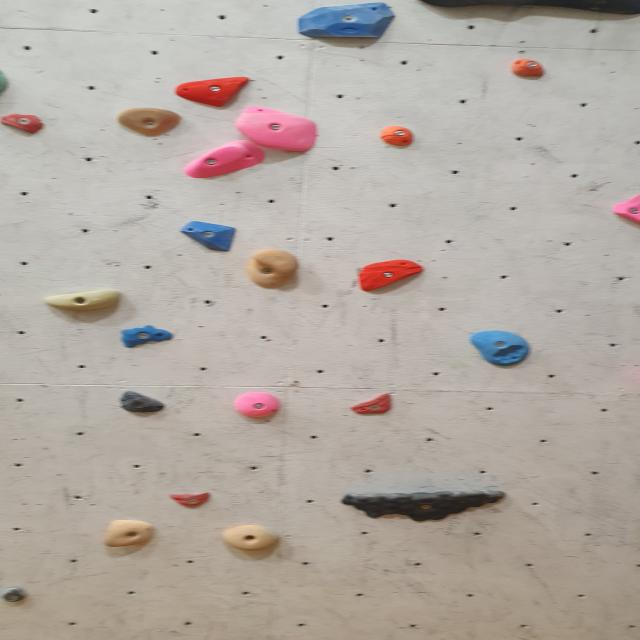Crimp: (291, 3, 392, 41), (175, 77, 253, 108), (244, 250, 303, 290), (356, 262, 428, 292), (120, 326, 176, 347), (610, 192, 640, 230), (0, 112, 49, 135), (348, 394, 394, 416), (168, 492, 213, 508)
Jug: (335, 489, 511, 523), (234, 108, 323, 155), (115, 104, 186, 138), (101, 519, 162, 550), (220, 524, 282, 553)
Pinch: (42, 288, 125, 314), (116, 389, 168, 415), (377, 127, 416, 148), (508, 60, 548, 80)
Sloper: (183, 140, 263, 181), (467, 331, 534, 366), (177, 223, 238, 253), (234, 392, 283, 418)
